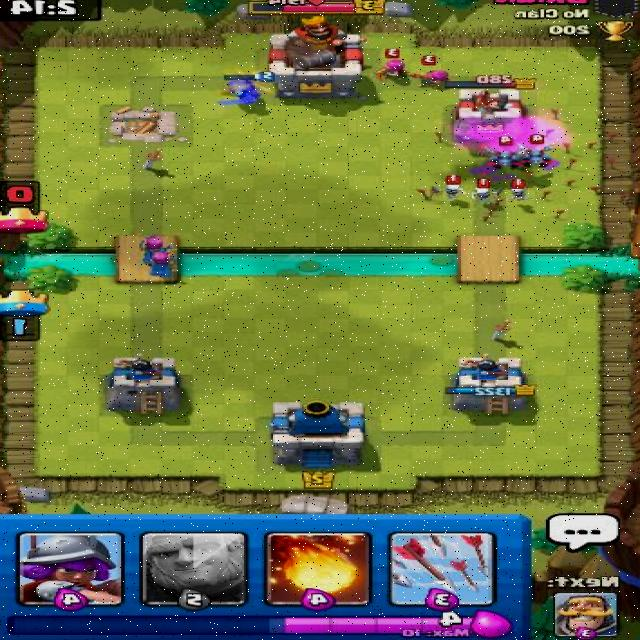Enemy-Archer: (370, 48, 420, 81), (405, 54, 452, 89)
Enemy-Minion: (481, 135, 531, 171), (514, 132, 560, 171)
Enemy-Skeleton: (427, 173, 470, 203), (466, 177, 508, 207), (501, 177, 537, 205)
Player-Archer: (134, 233, 175, 265), (141, 248, 184, 278)
Player-MiniPEKKA: (213, 71, 275, 107)
